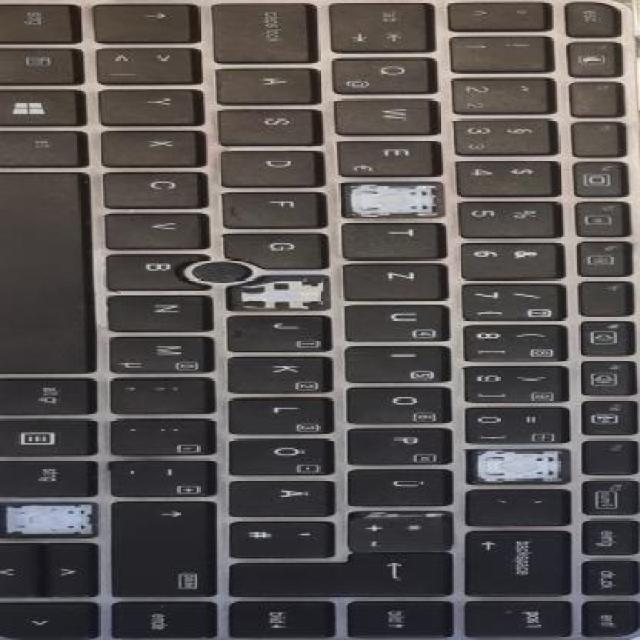Keyboard problems: (228, 275, 329, 309), (468, 449, 568, 483), (0, 503, 95, 534), (346, 185, 440, 215)
